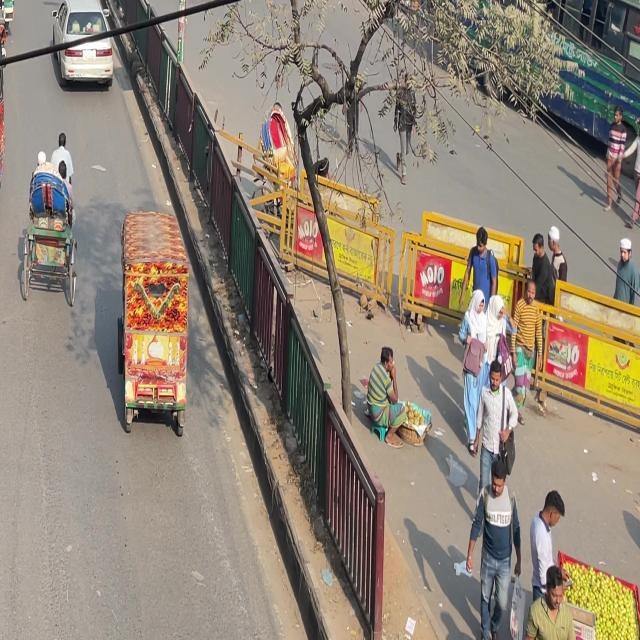bicycle: (18, 229, 76, 300), (374, 399, 434, 450)
bus: (0, 0, 13, 416), (0, 0, 9, 20)
car: (56, 1, 124, 91)
rickshaw: (102, 186, 208, 478)
